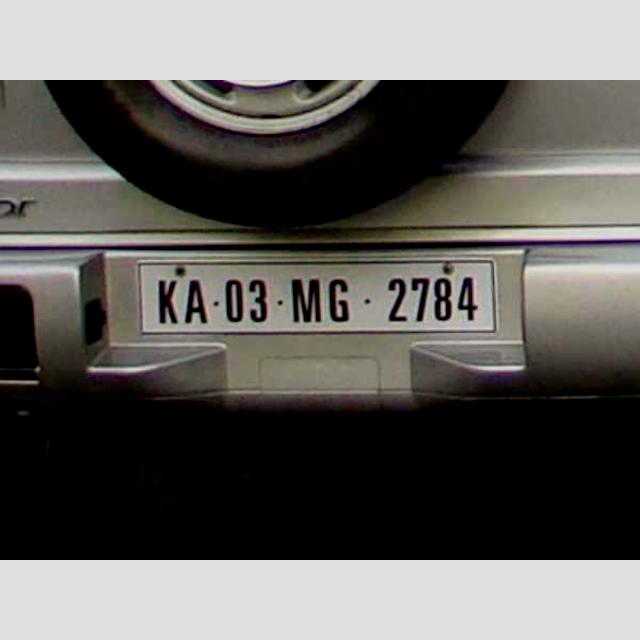plate: (136, 264, 492, 338)
